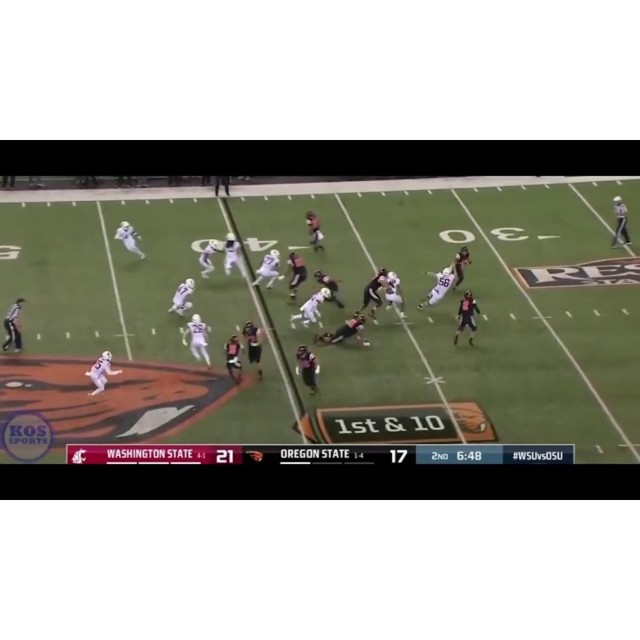american-football-player: (288, 287, 332, 329), (318, 312, 370, 347), (416, 267, 456, 311), (182, 313, 213, 369), (85, 350, 120, 398), (358, 268, 389, 321), (453, 290, 479, 348), (241, 320, 266, 380), (295, 344, 321, 397), (313, 269, 346, 309), (251, 250, 281, 291), (114, 222, 146, 260), (383, 270, 407, 319), (285, 250, 309, 299), (223, 334, 245, 384), (168, 278, 196, 315), (198, 239, 223, 280), (304, 210, 327, 254), (222, 233, 243, 278), (452, 245, 472, 291)
referee: (1, 297, 27, 354), (610, 196, 632, 249)
